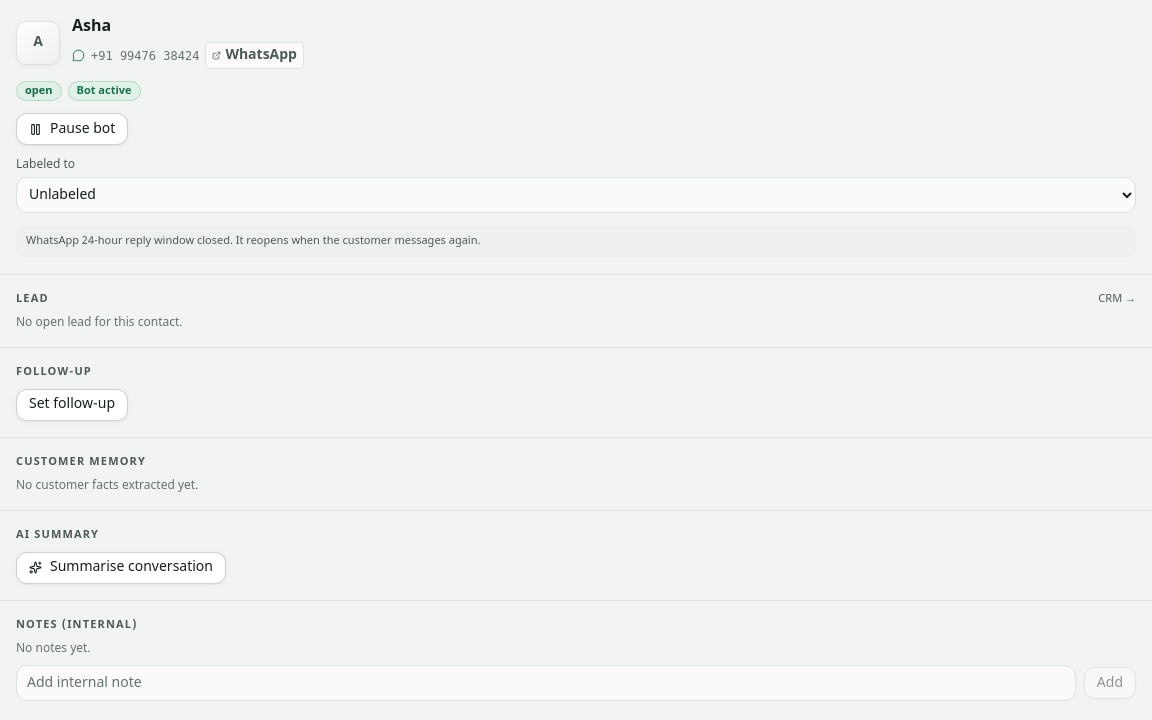
Test: ContextRail AI summary (#18 — hydrate persisted rolling_summary) › offers on-demand generation when rolling_summary is null
Click the button "Summarise conversation" at coordinates (121, 568), box [16,552,226,584]
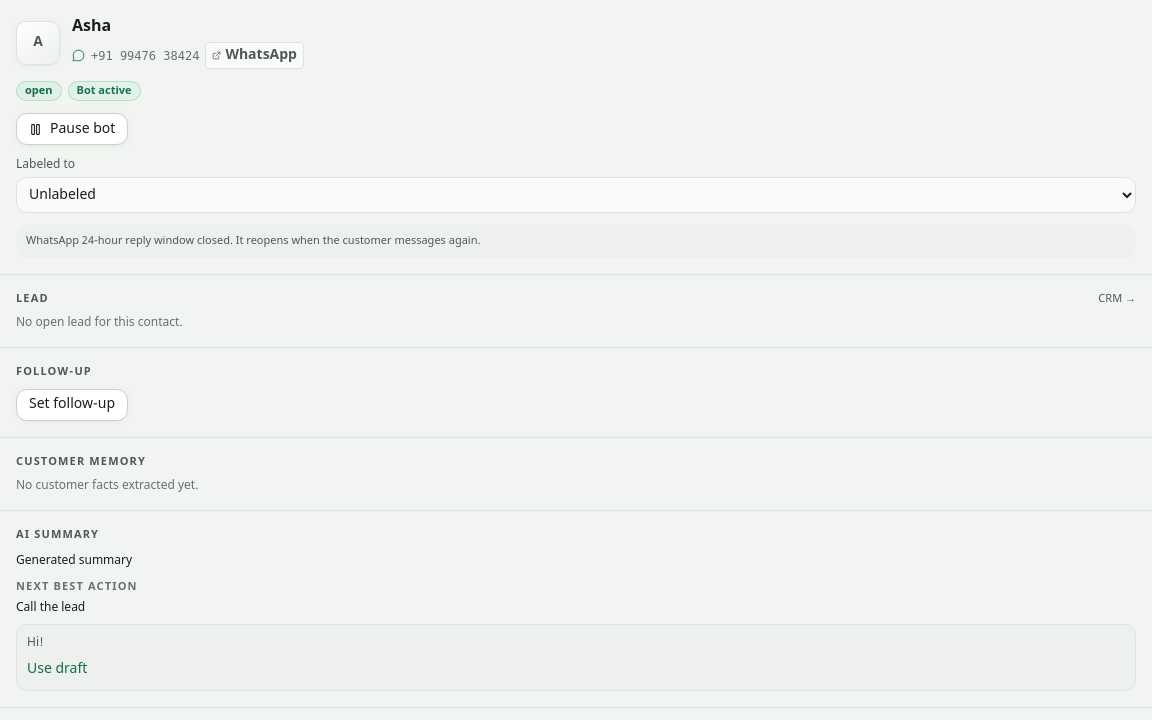
Result: the text "Generated summary" is shown at [16,552,132,568]
